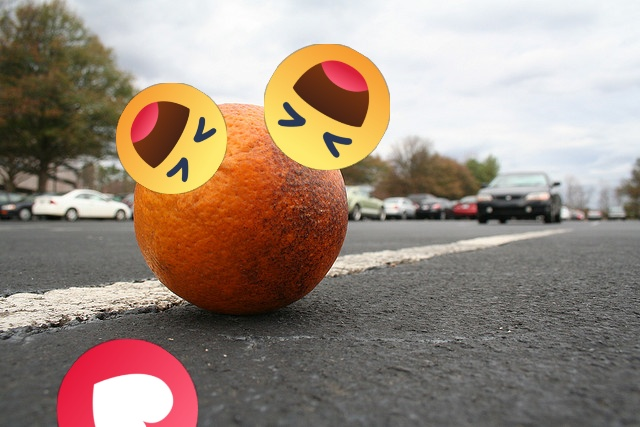haha: (264, 44, 390, 170), (116, 83, 227, 194)
love: (57, 339, 198, 427)
